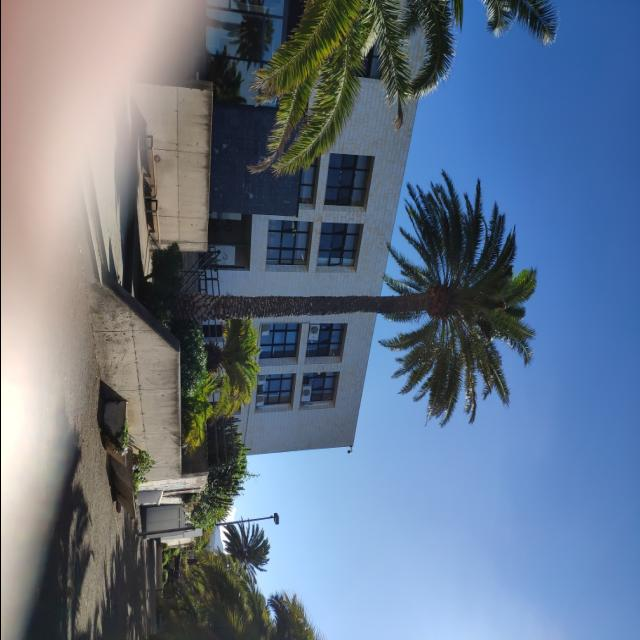Palm-Trees: (168, 202, 534, 408), (210, 522, 270, 594), (202, 318, 252, 402)
